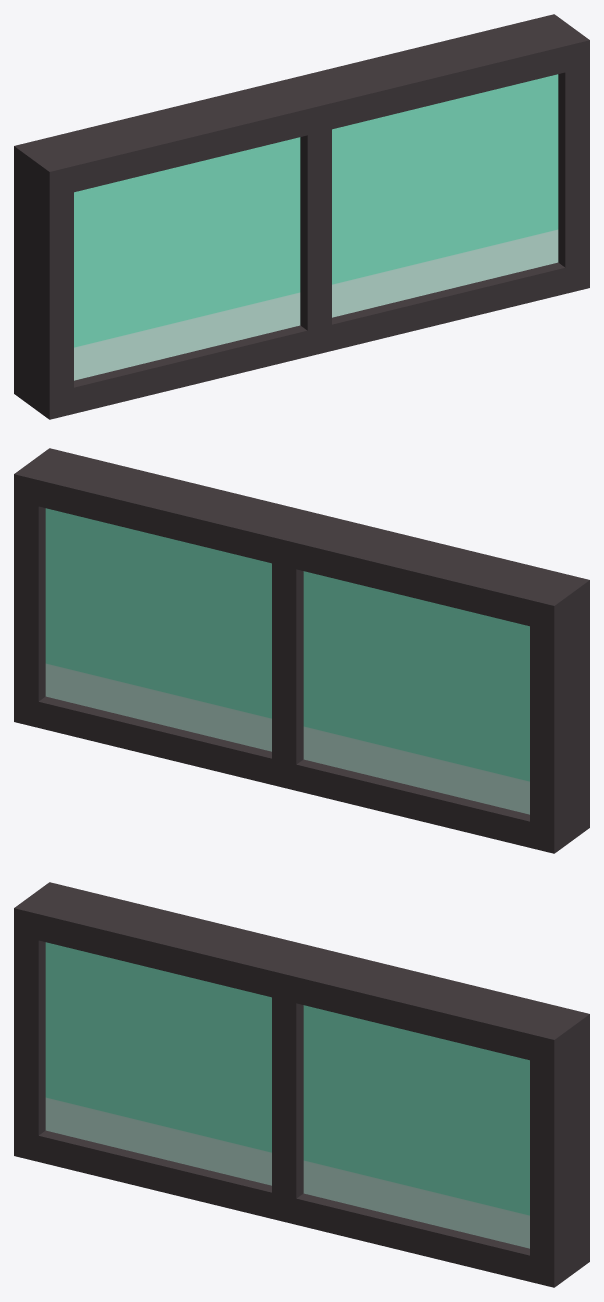
Rendered from WindowsA2_geo.fbx.
3 views of the same model, one above another, from view 1: azimuth 30°, elevation 25°; view 2: azimuth 150°, elevation 25°; view 3: azimuth 330°, elevation 25° (orthographic).
Parts seen in each view (by area): view 1: WindowsA2_geo; view 2: WindowsA2_geo; view 3: WindowsA2_geo.
Boxes of the visible parts, x1=… form: WindowsA2_geo: x1=14, y1=14, x2=589, y2=419; WindowsA2_geo: x1=14, y1=448, x2=589, y2=853; WindowsA2_geo: x1=14, y1=882, x2=589, y2=1287.
Size of the model in its own units: 2.93 by 0.3341 by 1.28.
